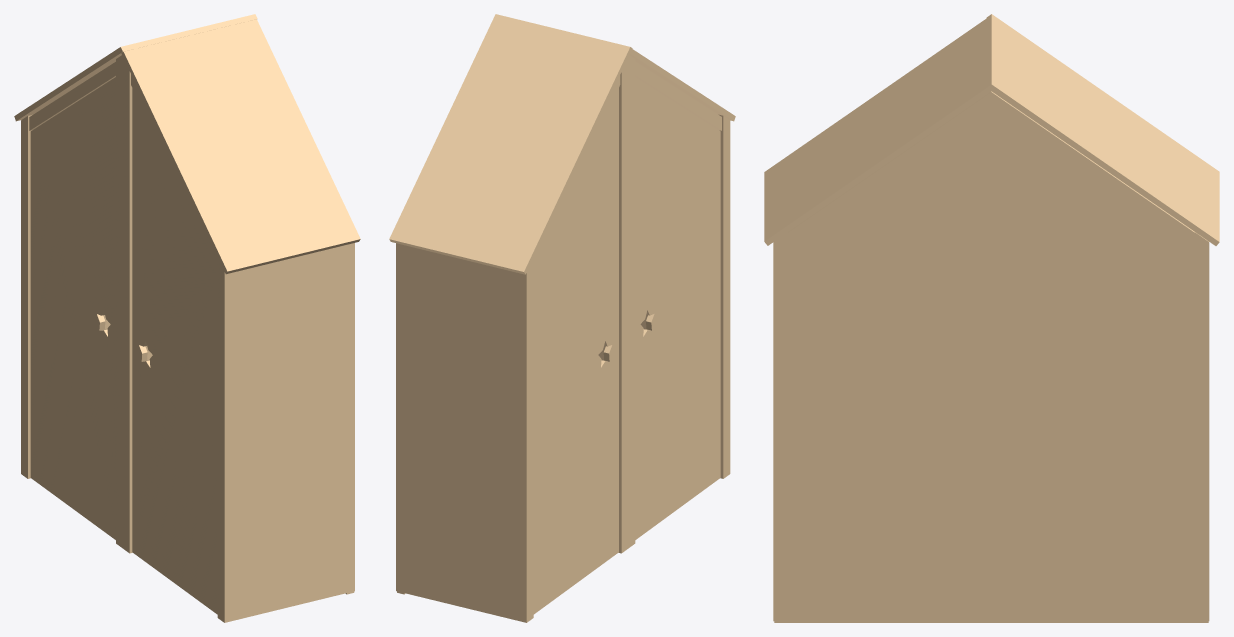
File: Furn2_chest_right_color3_joined.fbx
3 views of the same model, side by side, from view 1: azimuth 30°, elevation 25°; view 2: azimuth 150°, elevation 25°; view 3: azimuth 270°, elevation 25° (orthographic). The views are drawn at different scales.
Parts seen in each view (by area): view 1: Куб.148; view 2: Куб.148; view 3: Куб.148.
Boxes of the visible parts, left/top/right/bottom form: Куб.148: left=14, top=14, right=360, bottom=622; Куб.148: left=389, top=14, right=735, bottom=622; Куб.148: left=764, top=14, right=1219, bottom=622.
Size of the model in its own units: 124 by 442 by 338.
